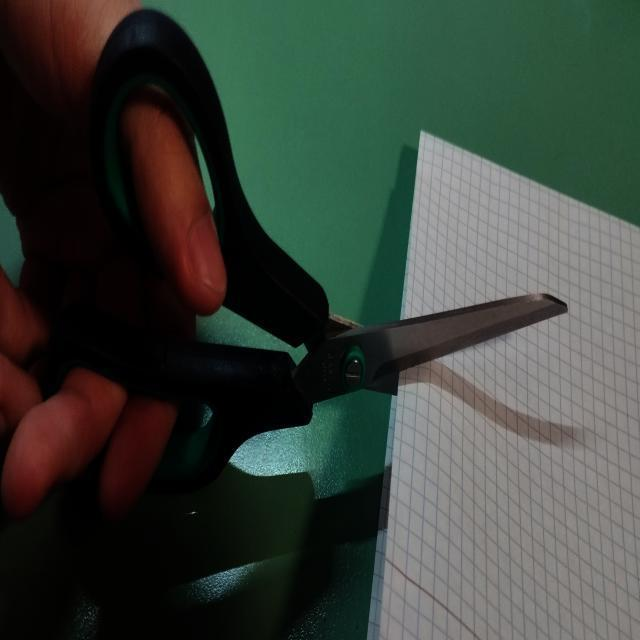scissors: (40, 6, 572, 500)
